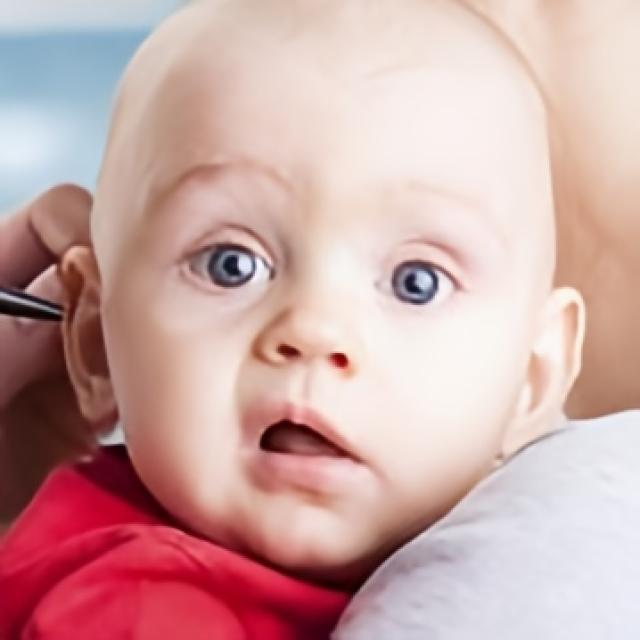surprise: (87, 33, 559, 580)
